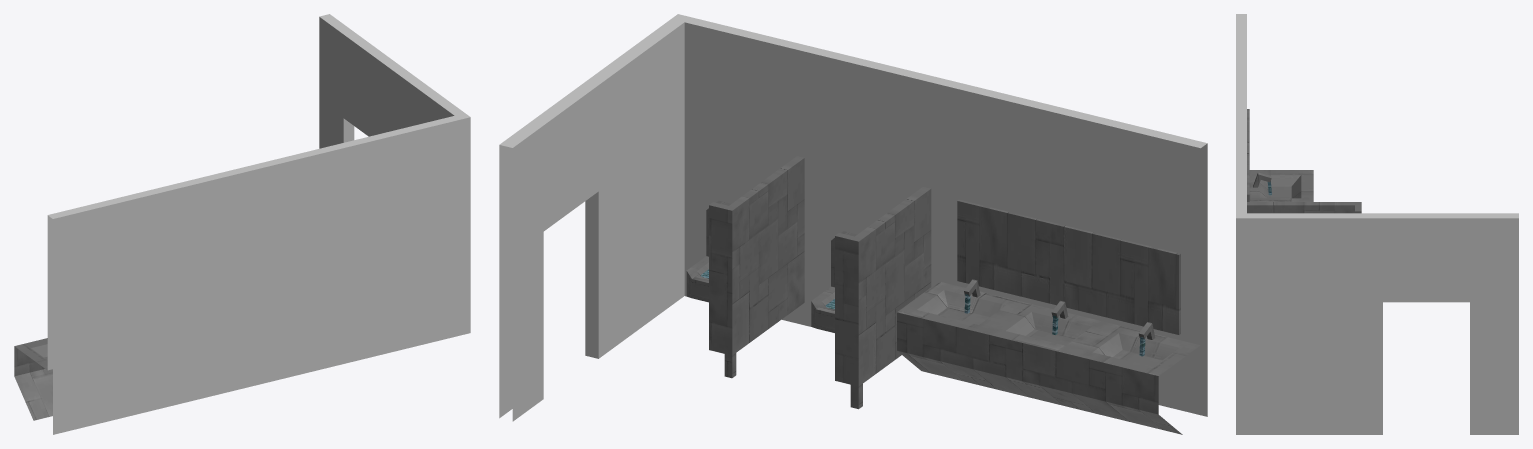
Rendered from Toilet.fbx.
3 views of the same model, side by side, from view 1: azimuth 30°, elevation 25°; view 2: azimuth 150°, elevation 25°; view 3: azimuth 270°, elevation 25° (orthographic). The views are drawn at different scales.
Parts seen in each view (by area): view 1: Toilet; view 2: Toilet; view 3: Toilet.
Part boxes in pixels (bbox=[...]): Toilet: bbox=[14, 14, 470, 434]; Toilet: bbox=[499, 14, 1207, 434]; Toilet: bbox=[1236, 14, 1518, 434].
Bounding box in the file's own units: 290 × 143 × 170.
